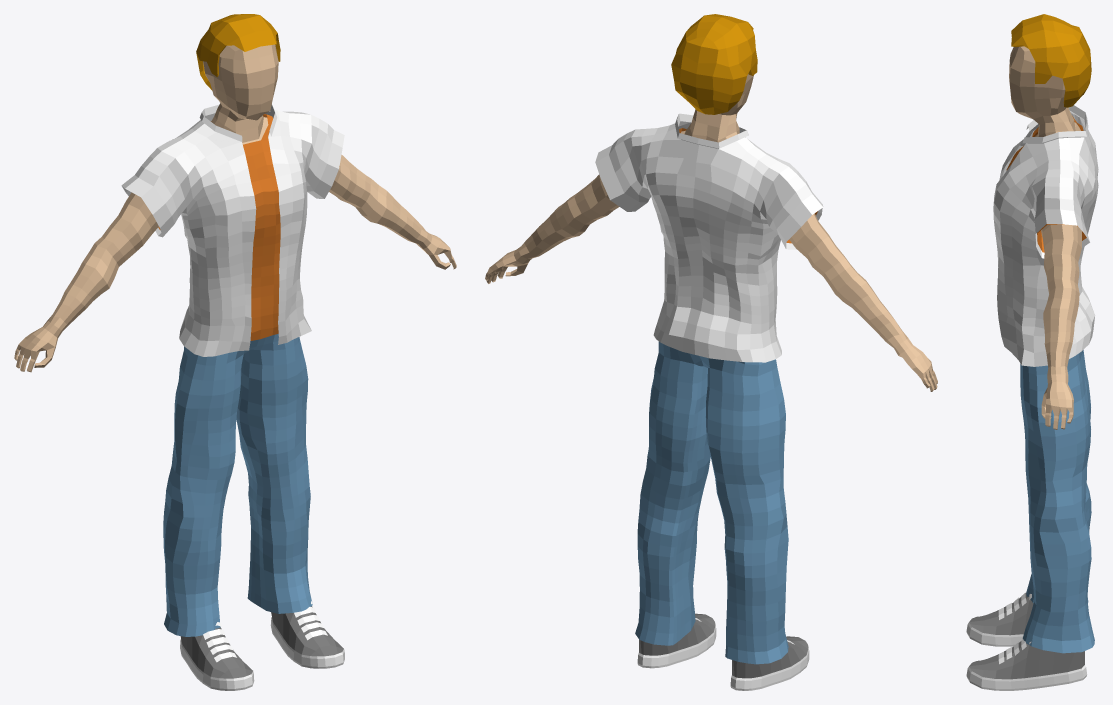
The model's file is SecondMainCharecter.fbx.
3 views of the same model, side by side, from view 1: azimuth 30°, elevation 25°; view 2: azimuth 150°, elevation 25°; view 3: azimuth 270°, elevation 25° (orthographic). The views are drawn at different scales.
Visible parts, largest first — view 1: trousers.001, t-shirt.003, person.002, t-shirt.002, Cube.002, person.003; view 2: trousers.001, t-shirt.003, person.002, person.003, Cube.002; view 3: trousers.001, t-shirt.003, person.002, Cube.002, person.003, t-shirt.002, Plane.007.
Boxes of the visible parts, x1,y1,x2,y2 form: trousers.001: (163,334,312,636); t-shirt.003: (121,104,344,356); person.002: (14,44,456,372); t-shirt.002: (158,114,339,340); Cube.002: (180,606,344,690); person.003: (196,14,280,90); trousers.001: (635,341,788,664); t-shirt.003: (595,113,823,362); person.002: (485,74,937,391); person.003: (671,14,757,114); Cube.002: (637,613,809,690); trousers.001: (1020,350,1094,653); t-shirt.003: (993,105,1098,366); person.002: (1009,46,1081,429); Cube.002: (966,593,1087,690); person.003: (1011,14,1091,107); t-shirt.002: (1006,116,1086,252); Plane.007: (1014,592,1031,655).
Bounding box in the file's own units: 353 × 495 × 93.05.
